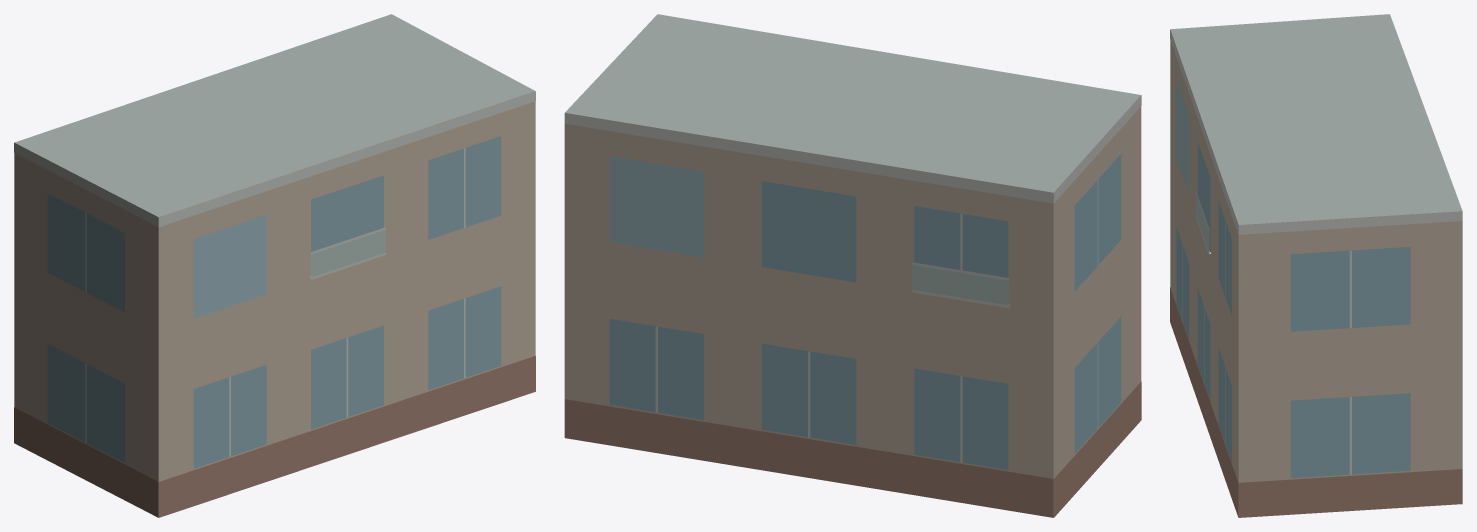
File: survey-upis-32555481.glb
The picture shows the model from 3 angles, left to right: view 1: azimuth 30°, elevation 25°; view 2: azimuth 150°, elevation 25°; view 3: azimuth 270°, elevation 25°; orthographic projection. The views are drawn at different scales.
Parts seen in each view (by area): view 1: survey-upis-32555481.tmp; view 2: survey-upis-32555481.tmp; view 3: survey-upis-32555481.tmp.
Part boxes in pixels (<box>): survey-upis-32555481.tmp: <box>14,14,535,517</box>; survey-upis-32555481.tmp: <box>564,14,1141,517</box>; survey-upis-32555481.tmp: <box>1170,14,1462,517</box>.
Bounding box in the file's own units: 11.29 × 7.3 × 6.62.
